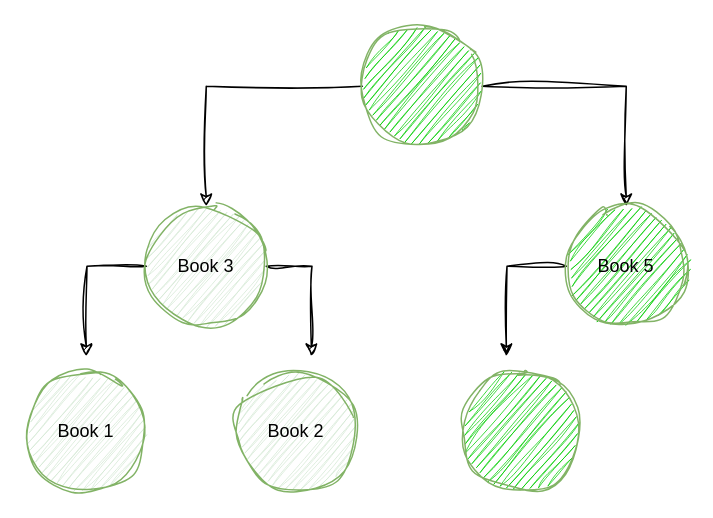
This 713x518 diagram has some shape labels left out. The shapes that lost their labels are listed below. From the top down, each one's centre as x and y in pixels, then its label:
At (x=421, y=85): "Book 4".
At (x=520, y=430): "Book 6".
